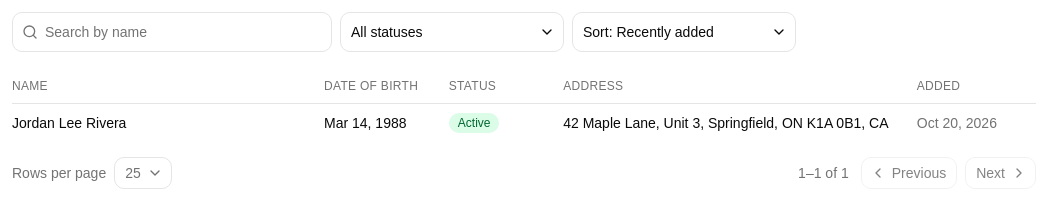
Test: PatientDirectory › shows the full name in a tooltip when the provider hovers over a shortened name
This screenshot has width=1048, height=206.
Hover over the link "Jordan Lee Rivera": (69, 122) [12,114,126,130]
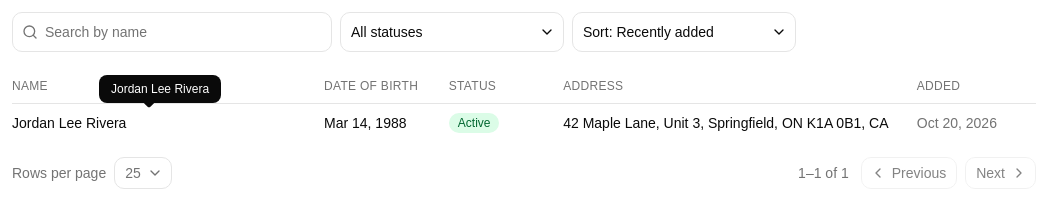
Result: the tooltip reads "Jordan Lee Rivera" at [111,82,209,96]
